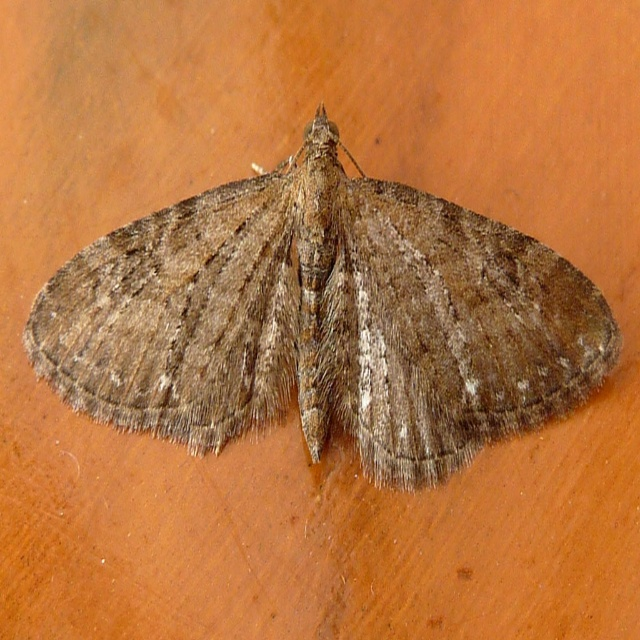Butterfly: (51, 104, 620, 480)
